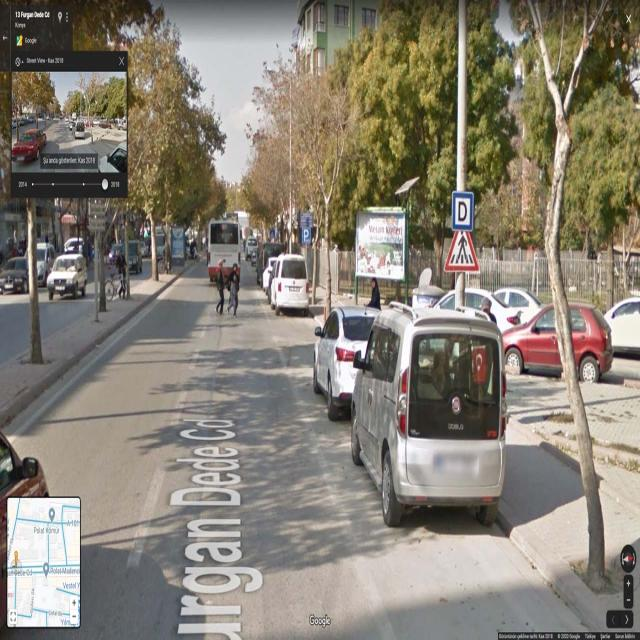durak: (452, 193, 473, 229)
park: (302, 225, 310, 243)
